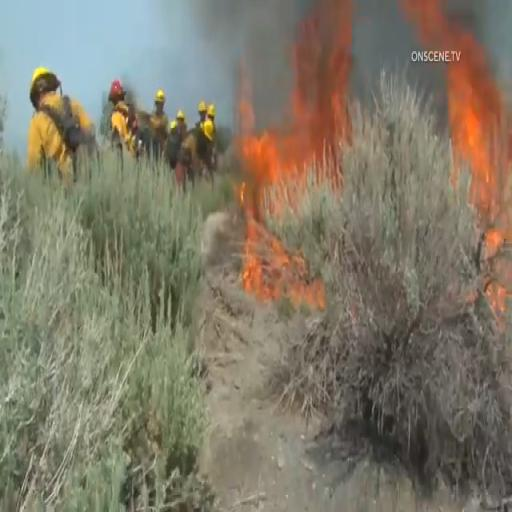fire: (238, 0, 345, 307), (446, 74, 498, 288)
